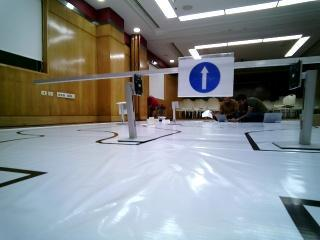straight: (177, 58, 235, 98)
